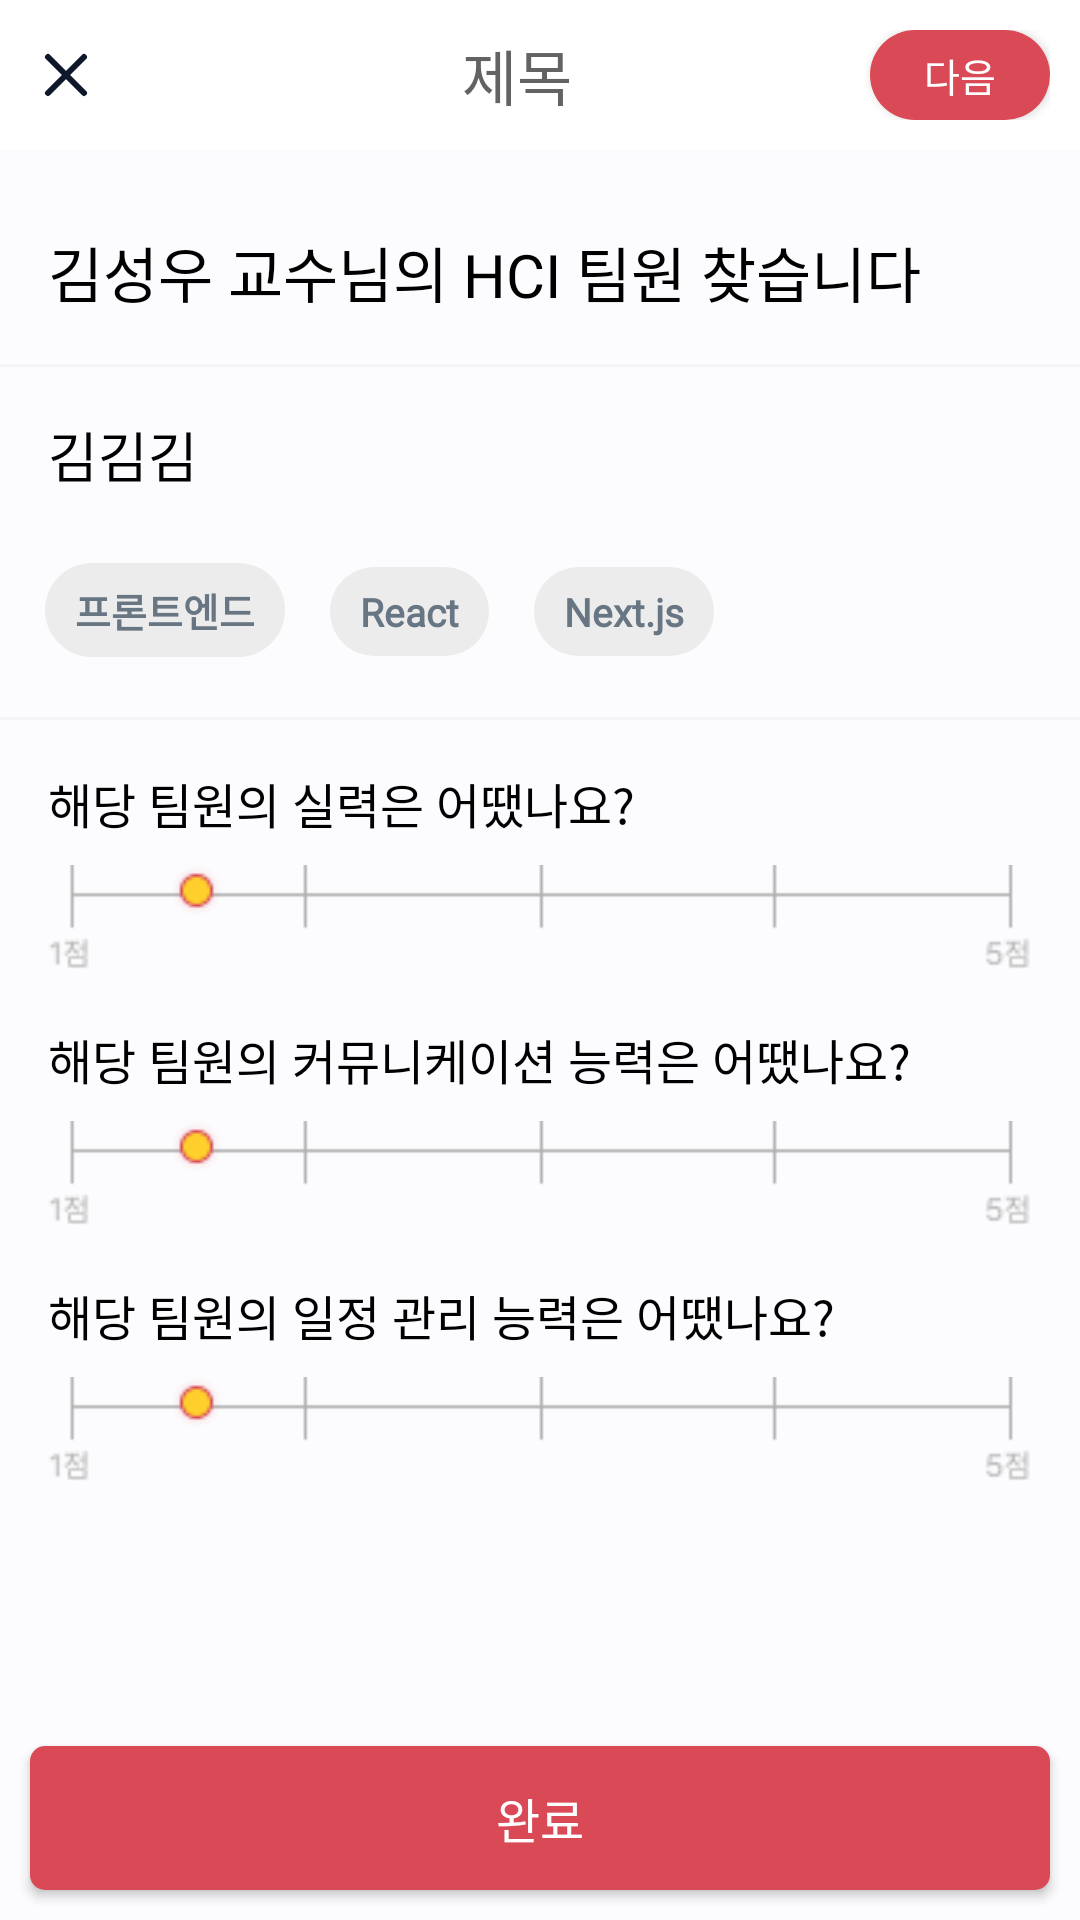

Icon click points for this 1080×1920 phone screenshot, format (x=x, y=y):
delete: (x=66, y=74)
